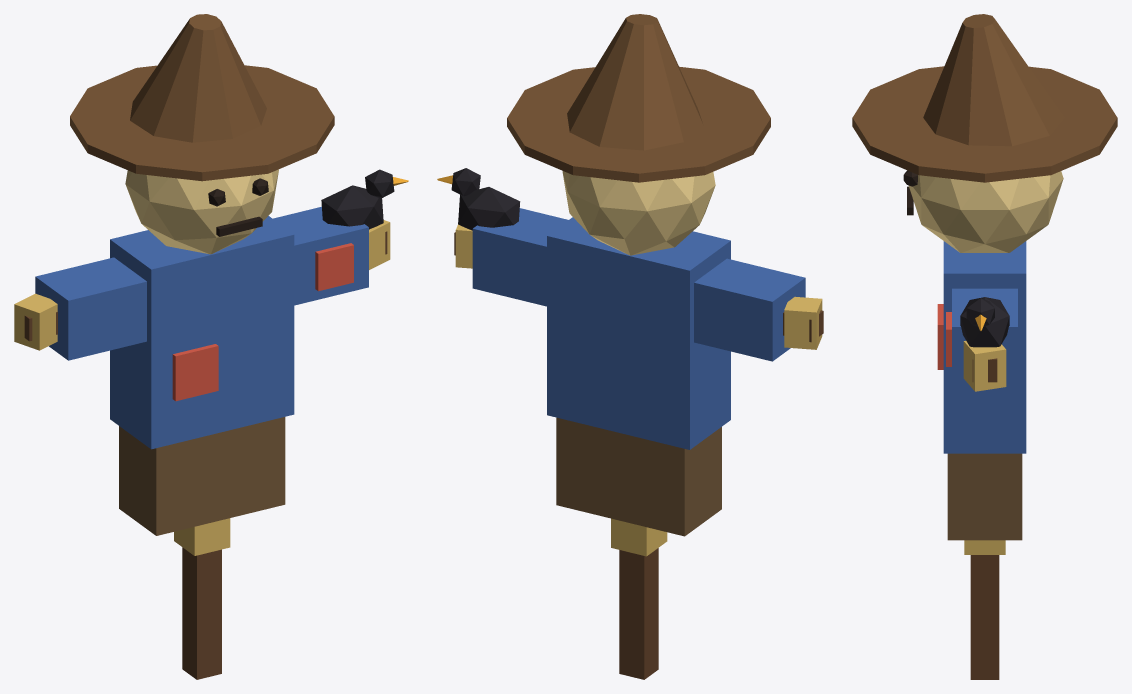
File: Scarecrow.fbx
3 views of the same model, side by side, from view 1: azimuth 30°, elevation 25°; view 2: azimuth 150°, elevation 25°; view 3: azimuth 270°, elevation 25° (orthographic).
Visible parts, largest first — view 1: Shirt, Hat, Pants, Head, Post, Straw, Patches, Crow, Face; view 2: Shirt, Hat, Pants, Head, Post, Straw, Crow; view 3: Hat, Shirt, Head, Pants, Post, Straw, Crow, Patches.
Part boxes in pixels (<box>): Shirt: <box>35,206,368,449</box>; Hat: <box>70,14,334,181</box>; Pants: <box>119,417,285,535</box>; Head: <box>125,169,278,254</box>; Post: <box>24,231,387,679</box>; Straw: <box>14,220,390,555</box>; Patches: <box>172,243,353,401</box>; Crow: <box>321,169,394,229</box>; Face: <box>208,178,268,236</box>; Shirt: <box>472,208,805,449</box>; Hat: <box>507,14,770,182</box>; Pants: <box>556,417,721,536</box>; Head: <box>562,171,715,255</box>; Post: <box>454,232,823,679</box>; Straw: <box>455,224,822,556</box>; Crow: <box>451,168,520,230</box>; Hat: <box>852,14,1117,182</box>; Shirt: <box>943,241,1026,453</box>; Head: <box>909,171,1063,252</box>; Pants: <box>947,453,1022,540</box>; Post: <box>970,358,999,679</box>; Straw: <box>963,341,1006,554</box>; Crow: <box>960,297,1009,347</box>; Patches: <box>937,304,951,369</box>.
Bounding box in the file's own units: 5.41 × 8.72 × 3.2.
